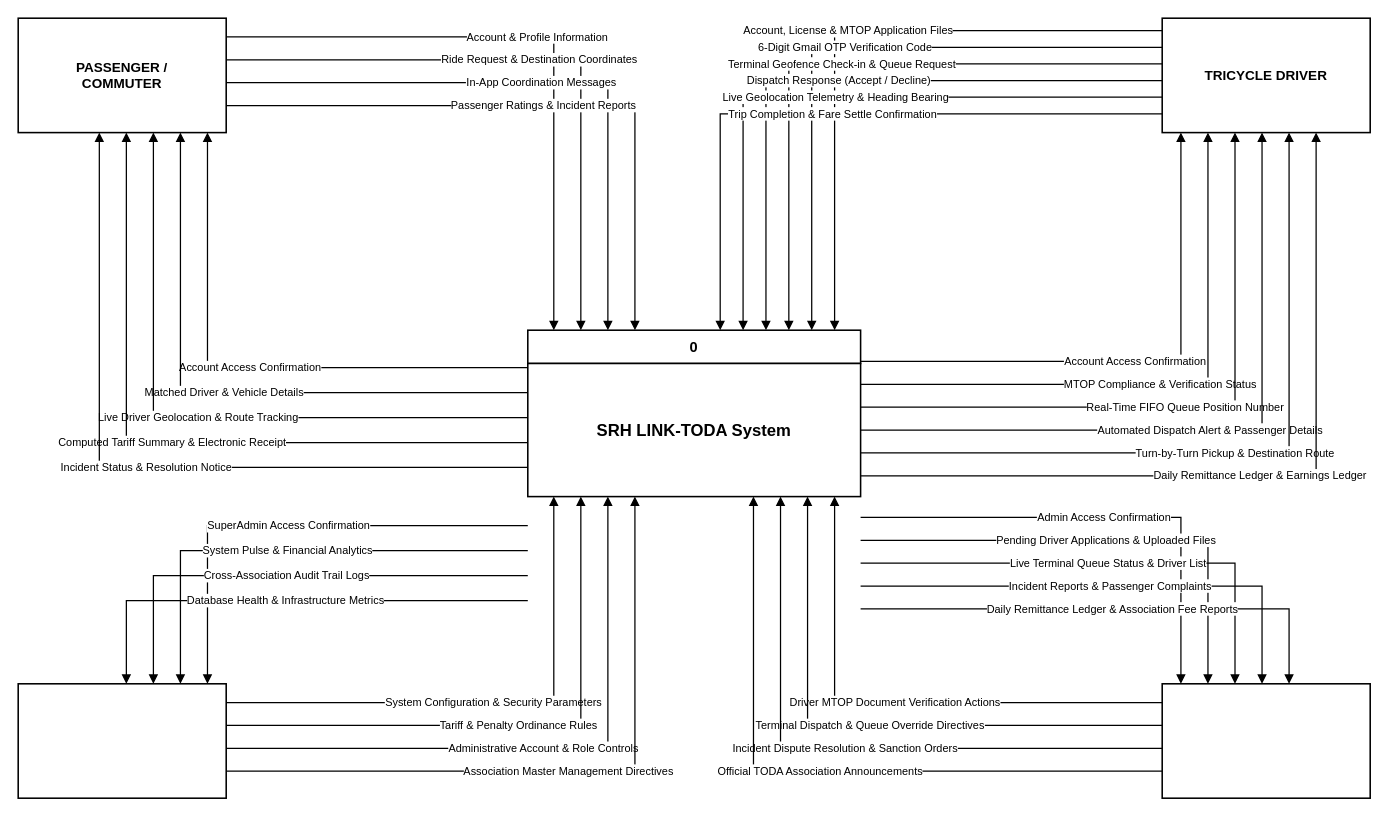
This 1389x817 diagram has some shape labels left out. Each missing label, with the box of its shape:
SUPERADMINISTRATOR: (17, 683, 227, 799)
TODA ADMINISTRATOR (TODA OFFICER): (1161, 683, 1371, 799)
